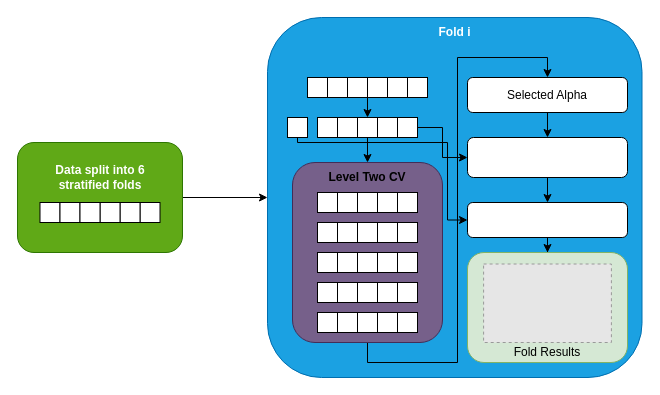
Image size: 660x395. Some labels were removed from this diagram. Grey dashed boxes stand in for pictures. Each missing label, with the centre of its shape:
Evaluation: point (547, 220)
Final Training: point (547, 157)
